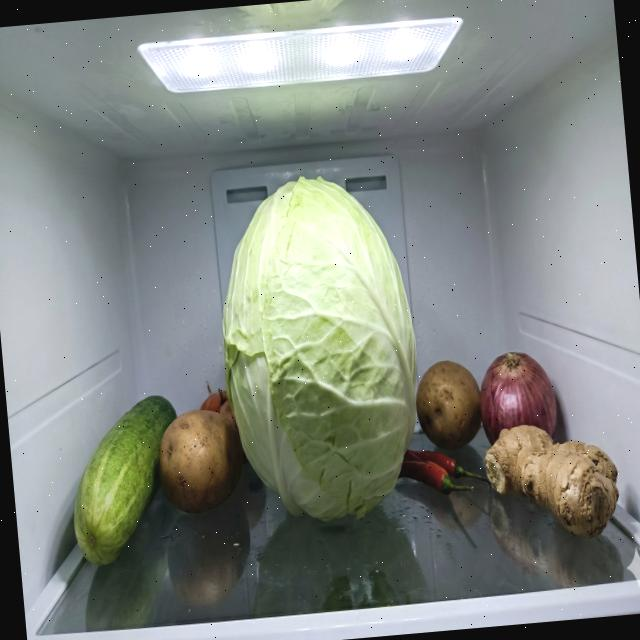cabbage: (206, 165, 431, 536)
chili: (394, 440, 492, 500)
cucumber: (63, 392, 190, 570)
ginger: (481, 416, 623, 546)
onion: (477, 348, 559, 448)
potato: (154, 405, 248, 517), (412, 357, 486, 452)
